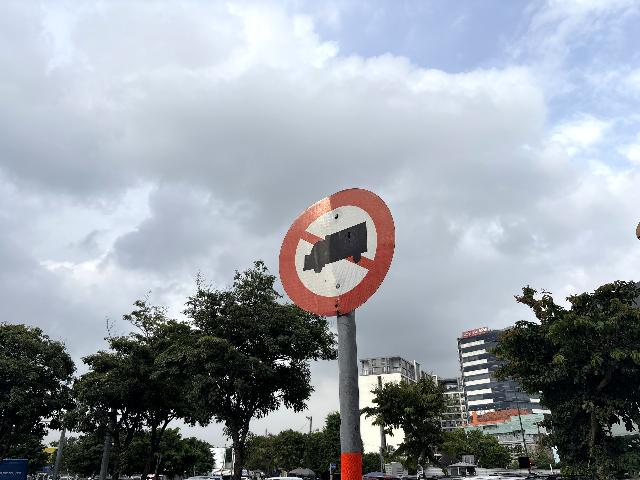cam-xe-tai: (278, 187, 394, 317)
